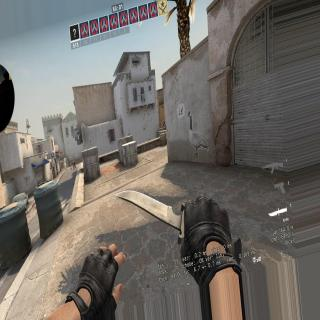CT-Body: (72, 160, 76, 169), (163, 121, 166, 128)
CT-Head: (164, 122, 165, 124), (73, 160, 74, 162)
